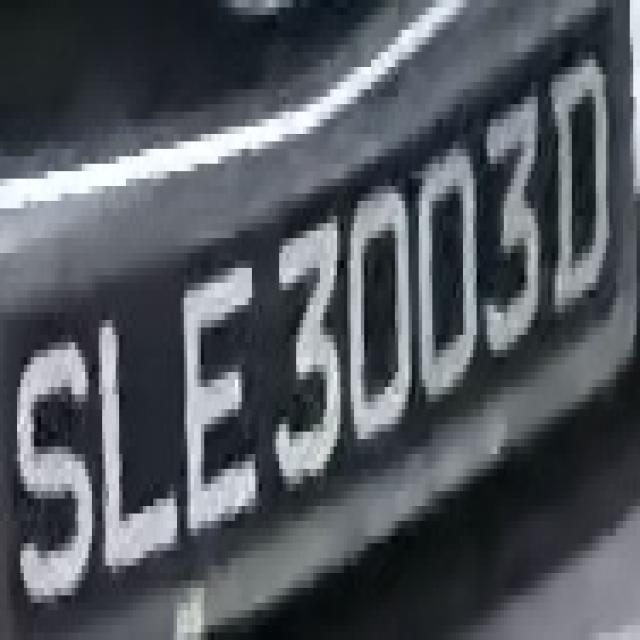0: (337, 171, 422, 454), (412, 134, 480, 424)
3: (272, 194, 340, 498), (470, 82, 541, 372)
D: (552, 22, 616, 350)
E: (160, 260, 272, 550)
L: (102, 283, 181, 595)
S: (14, 320, 92, 595)
